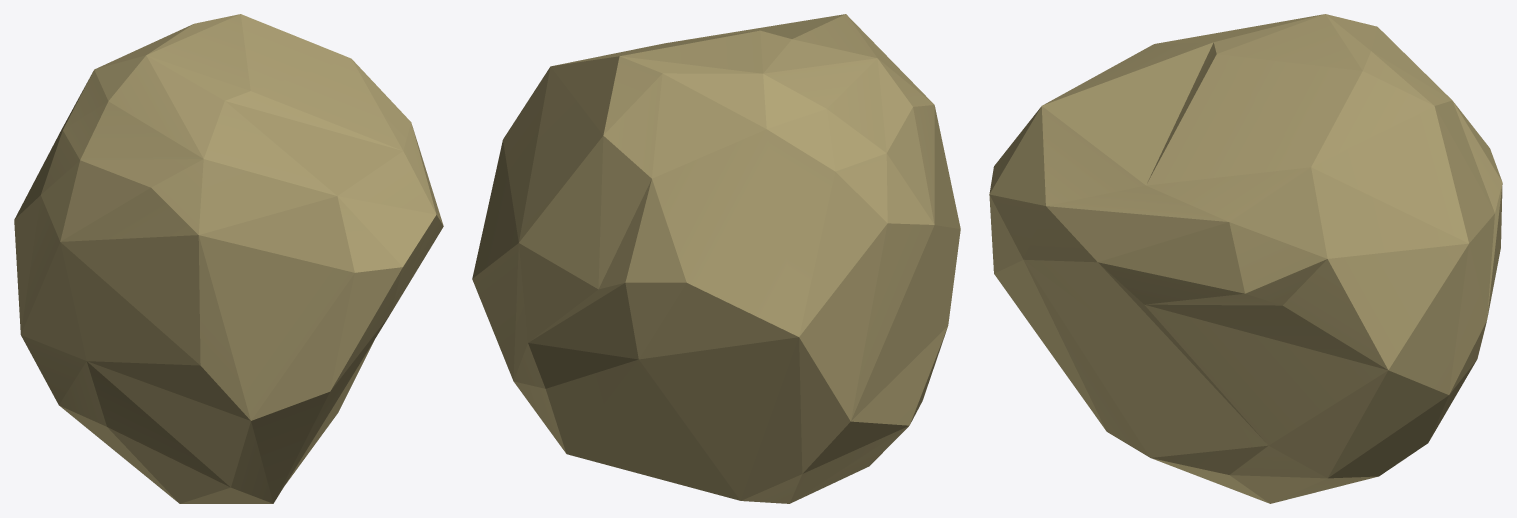
Rendered from SM_small_rock_64.fbx.
3 renders of one model, left to right at view 1: azimuth 30°, elevation 25°; view 2: azimuth 150°, elevation 25°; view 3: azimuth 270°, elevation 25°, orthographic. The views are drawn at different scales.
Visible parts, largest first — view 1: small_rock_64; view 2: small_rock_64; view 3: small_rock_64.
Boxes of the visible parts, x1,y1,x2,y2 form: small_rock_64: (14,14,443,503); small_rock_64: (472,14,960,503); small_rock_64: (989,14,1502,503).
Size of the model in its own units: 82.18 by 88.88 by 95.34.
